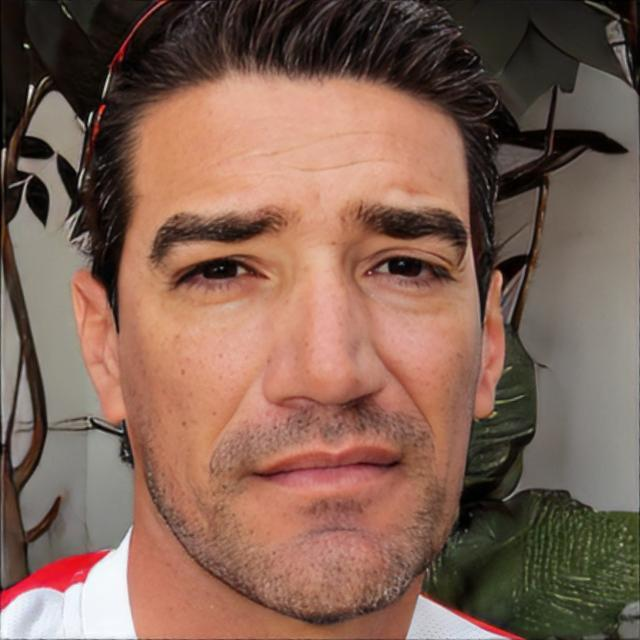sad: (121, 56, 489, 622)
